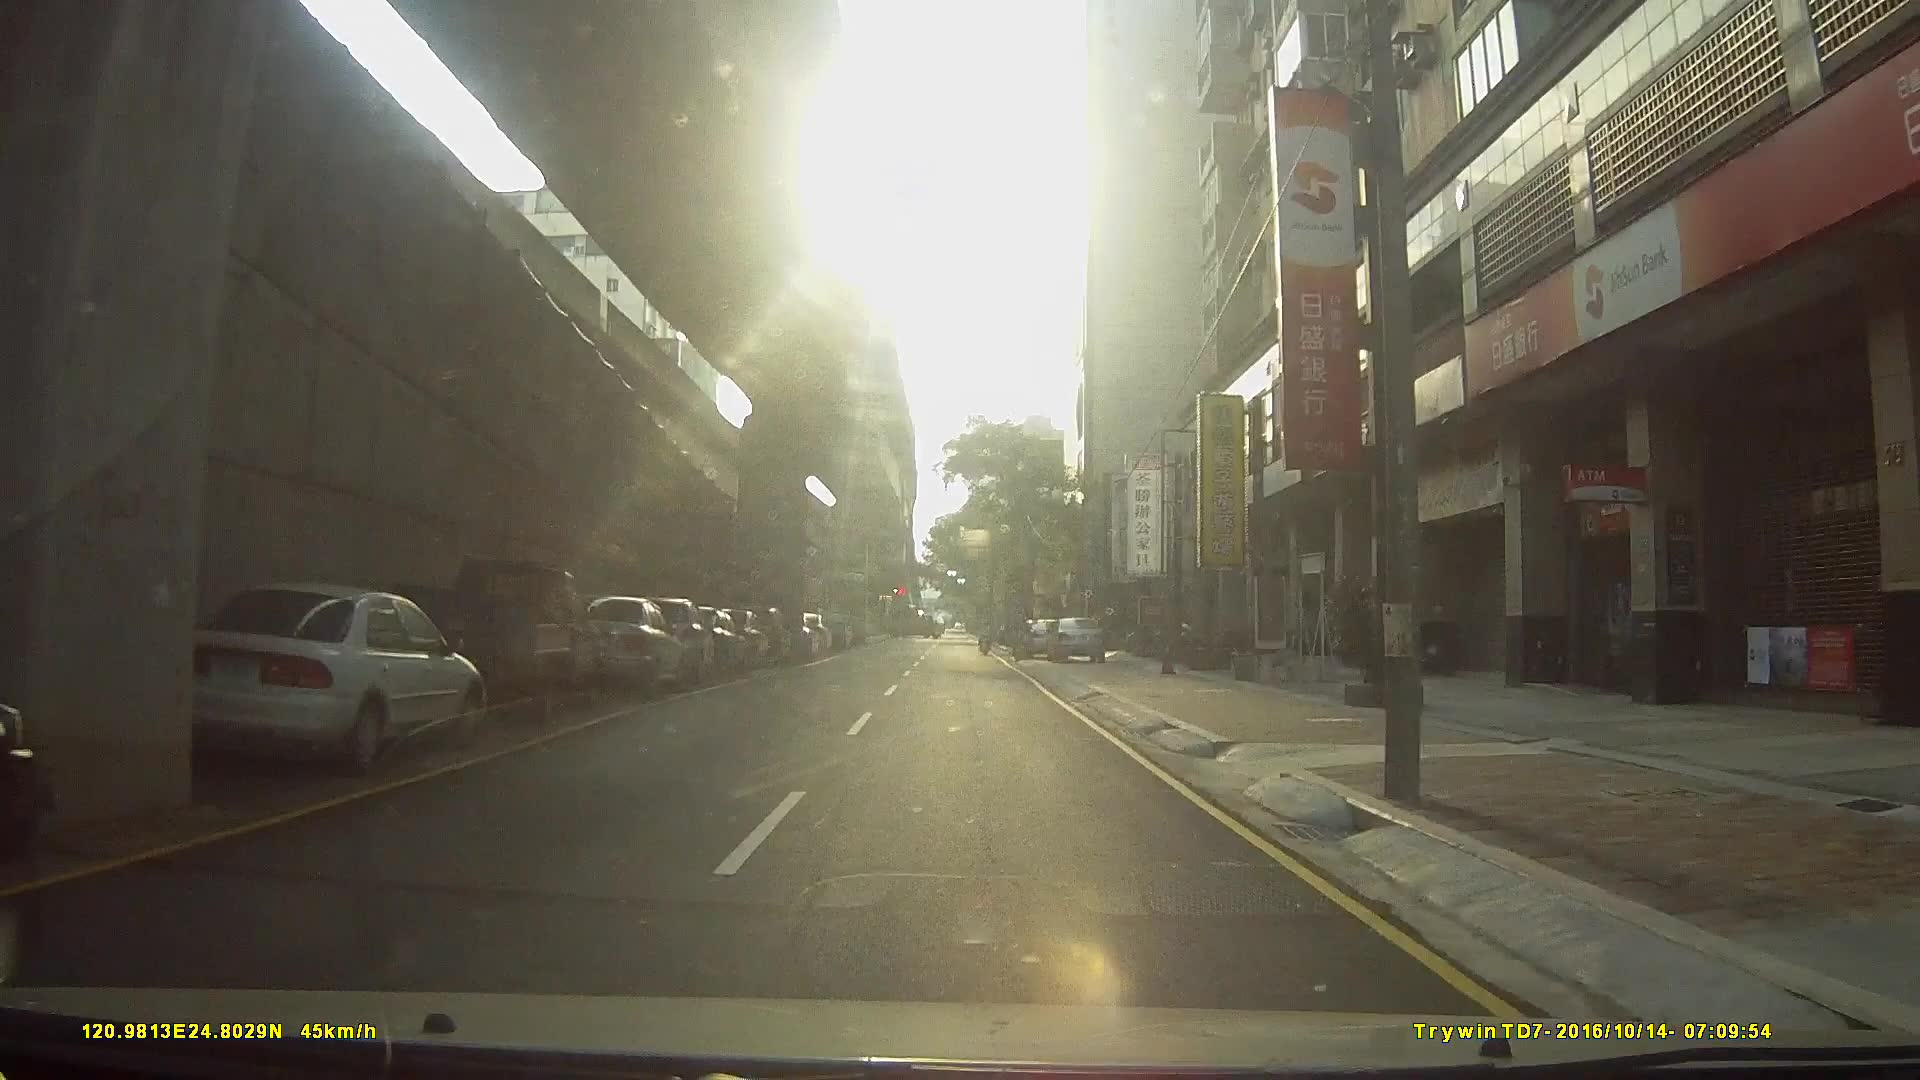vehicle: (158, 584, 477, 781), (385, 556, 605, 712), (547, 593, 687, 700), (597, 612, 729, 700), (659, 620, 794, 670), (1043, 615, 1108, 665)
